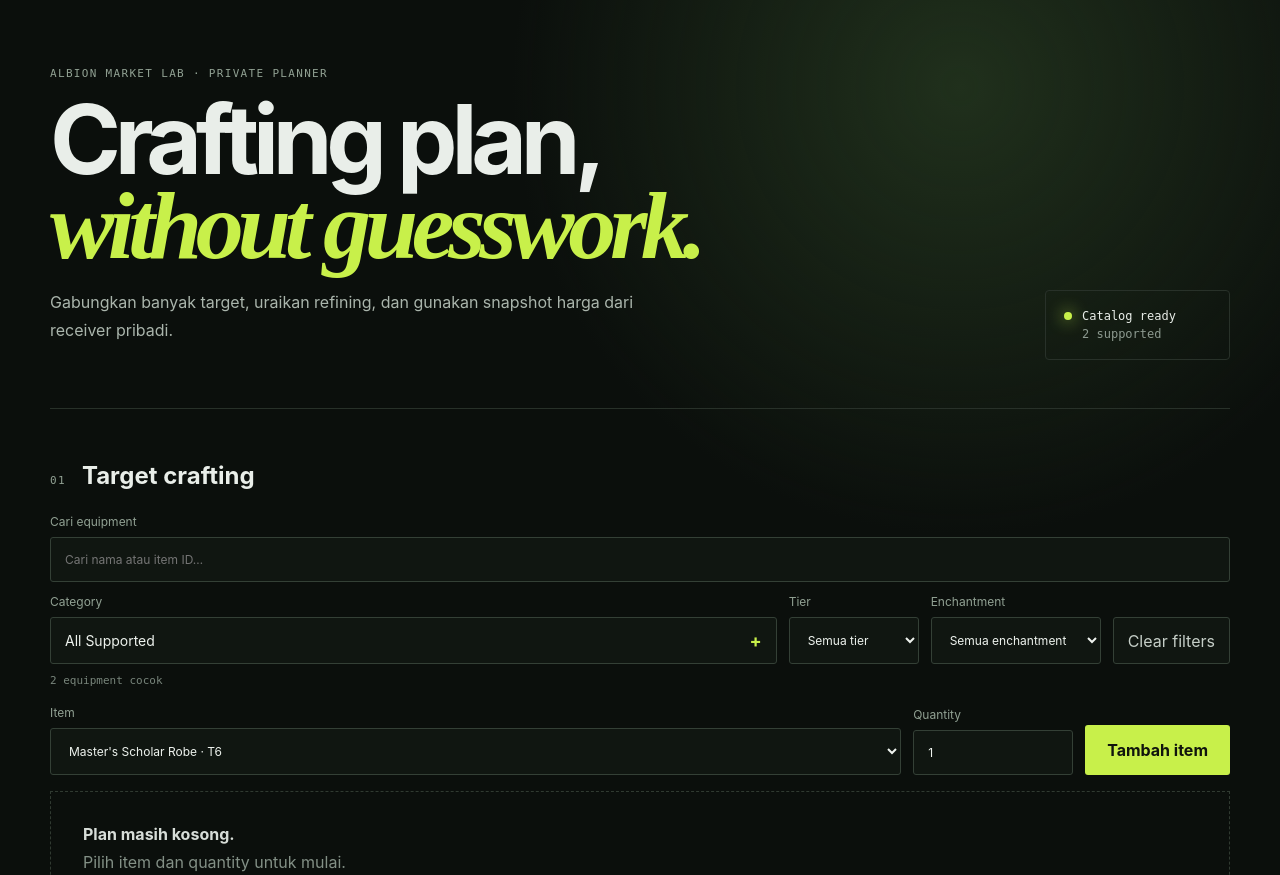
multi-target crafting planner › rejects invalid quantities
Expected: the dropdown named "Item crafting" is shown, left=50, top=728, right=901, bottom=775
Replace the text in the field labelled "Quantity" with "0" at (993, 753), box left=913, top=730, right=1073, bottom=775
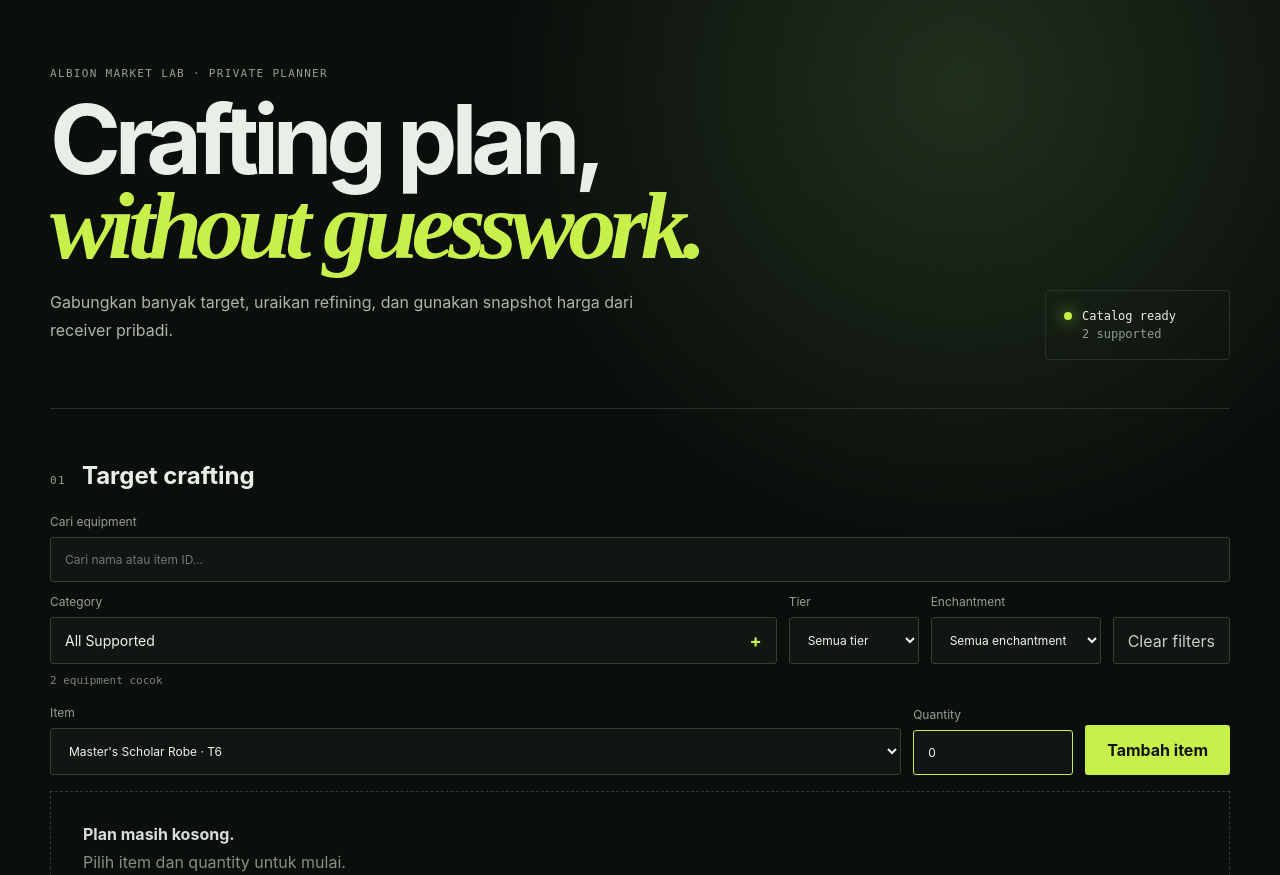
Click the button "Tambah item" at (1158, 750), box left=1085, top=725, right=1230, bottom=775
(page scrolled)
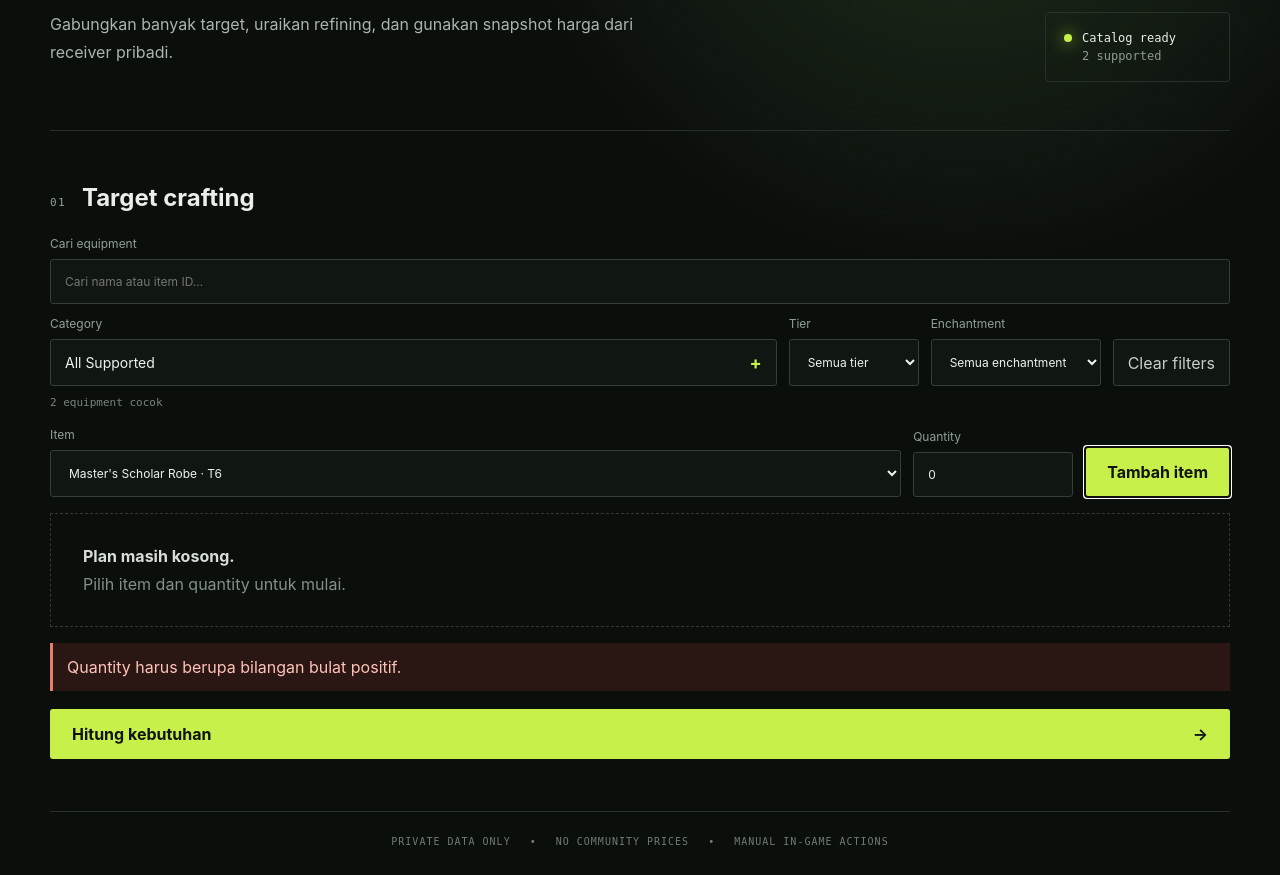
Expected: the message shows "bilangan bulat positif", left=67, top=657, right=401, bottom=677
